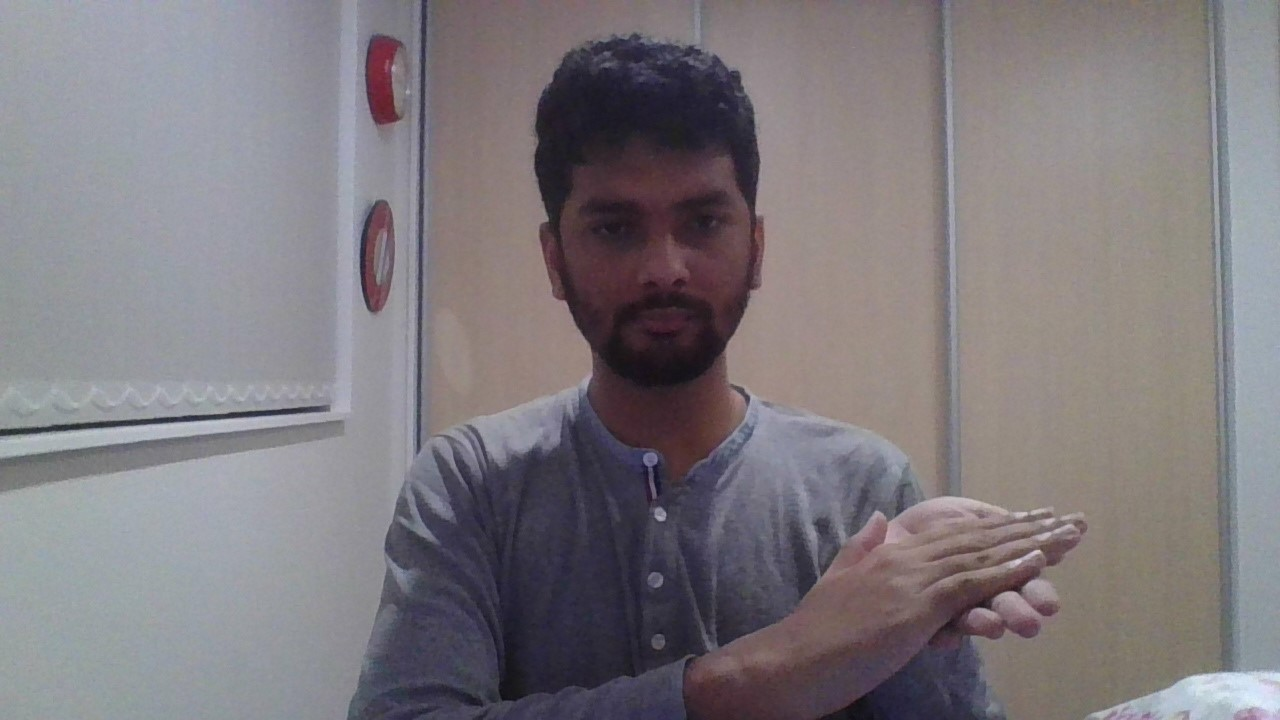clear: (723, 495, 1091, 720)
